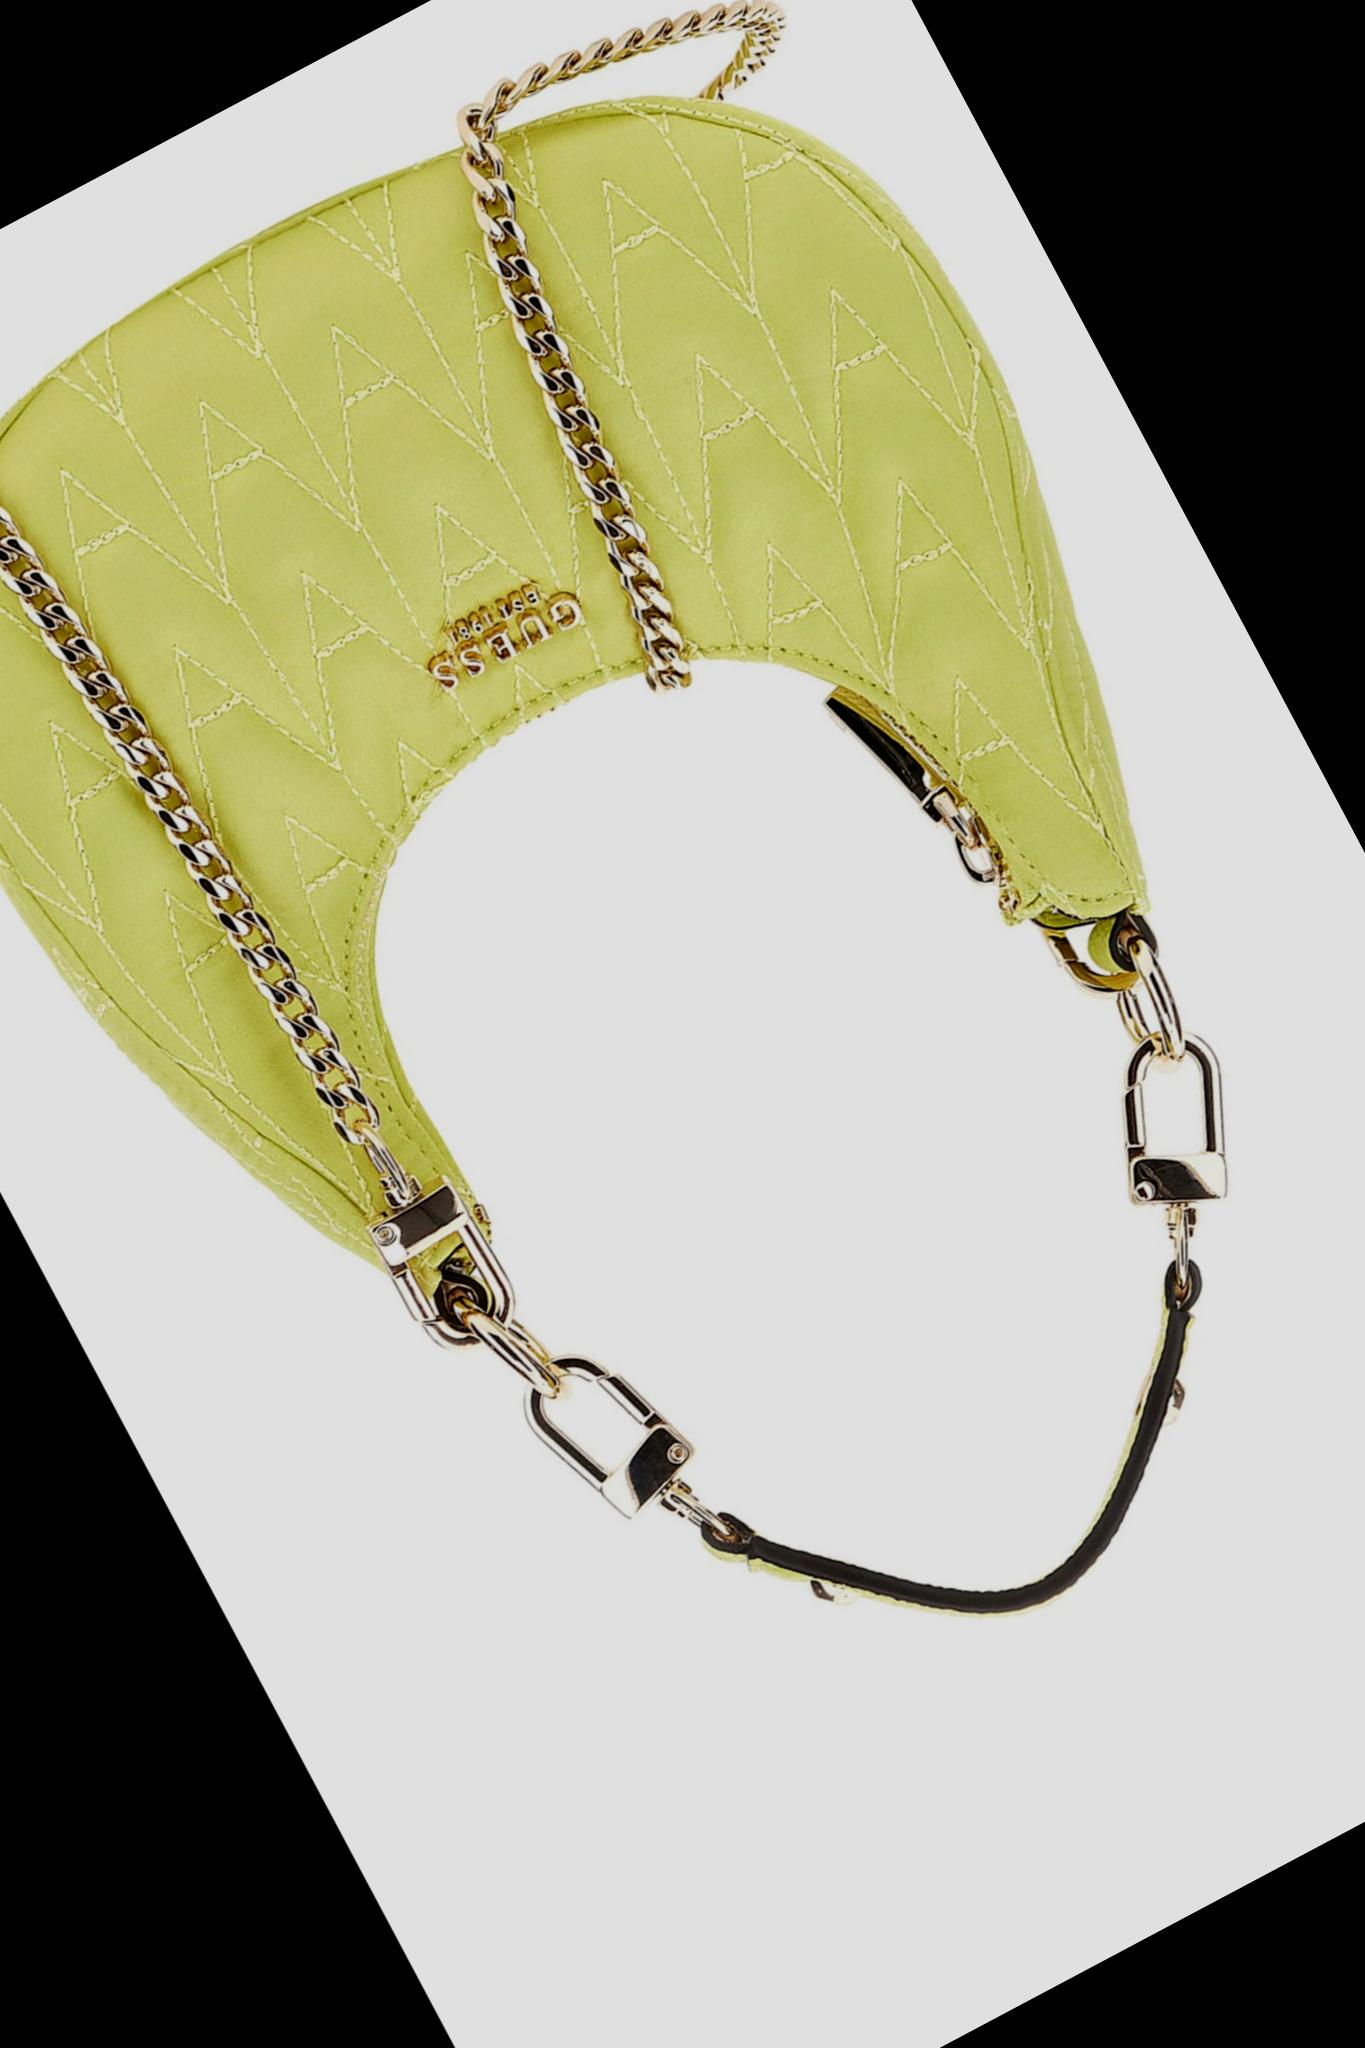GUESS: (422, 583, 587, 696)
